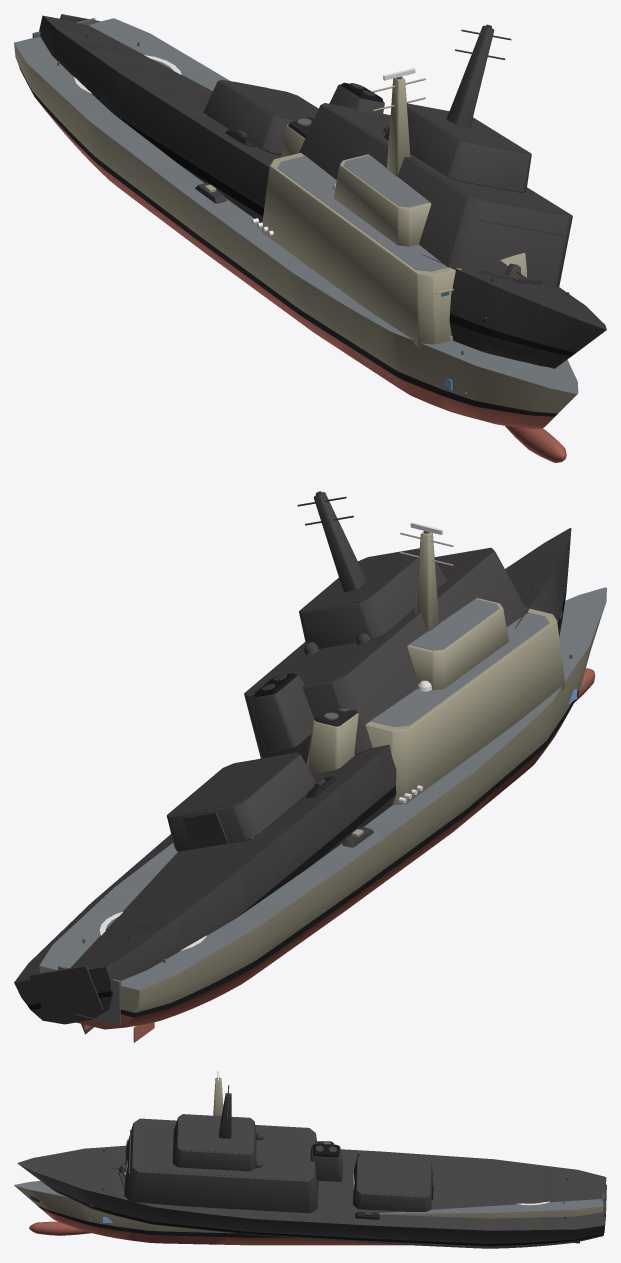
File: landingShip__makassar_class.glb
The picture shows the model from 3 angles, top to bottom: view 1: azimuth 30°, elevation 25°; view 2: azimuth 150°, elevation 25°; view 3: azimuth 270°, elevation 25°; orthographic projection. The views are drawn at different scales.
Visible parts, largest first — view 1: Hull_Mesh, Wreck; view 2: Wreck, Hull_Mesh; view 3: Wreck, Hull_Mesh.
Boxes of the visible parts, x1,y1,x2,y2 form: Hull_Mesh: (14, 18, 578, 462); Wreck: (39, 14, 606, 368); Wreck: (14, 491, 571, 1034); Hull_Mesh: (39, 532, 606, 1042); Wreck: (17, 1085, 606, 1248); Hull_Mesh: (14, 1078, 603, 1245).
Size of what is drawn, in the model's own units: 28.18 by 40.84 by 128.
